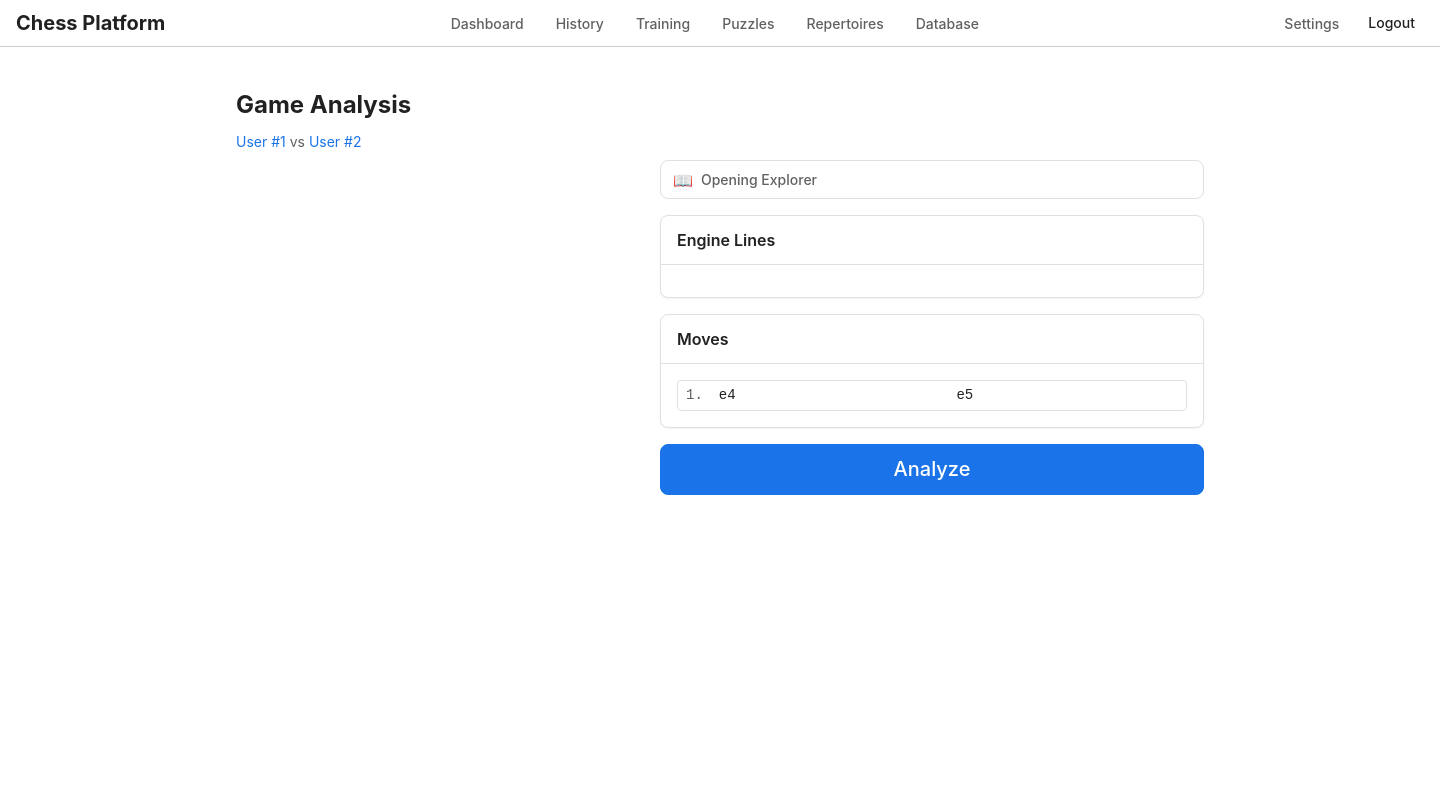
Test: AnalysisPage › shows variation indicator when engine line is clicked
What coordinates should you click on to do the following:
click the button with test id "analyze-button"
I would click on:
 (932, 470)
Its box is [660,444,1204,495].
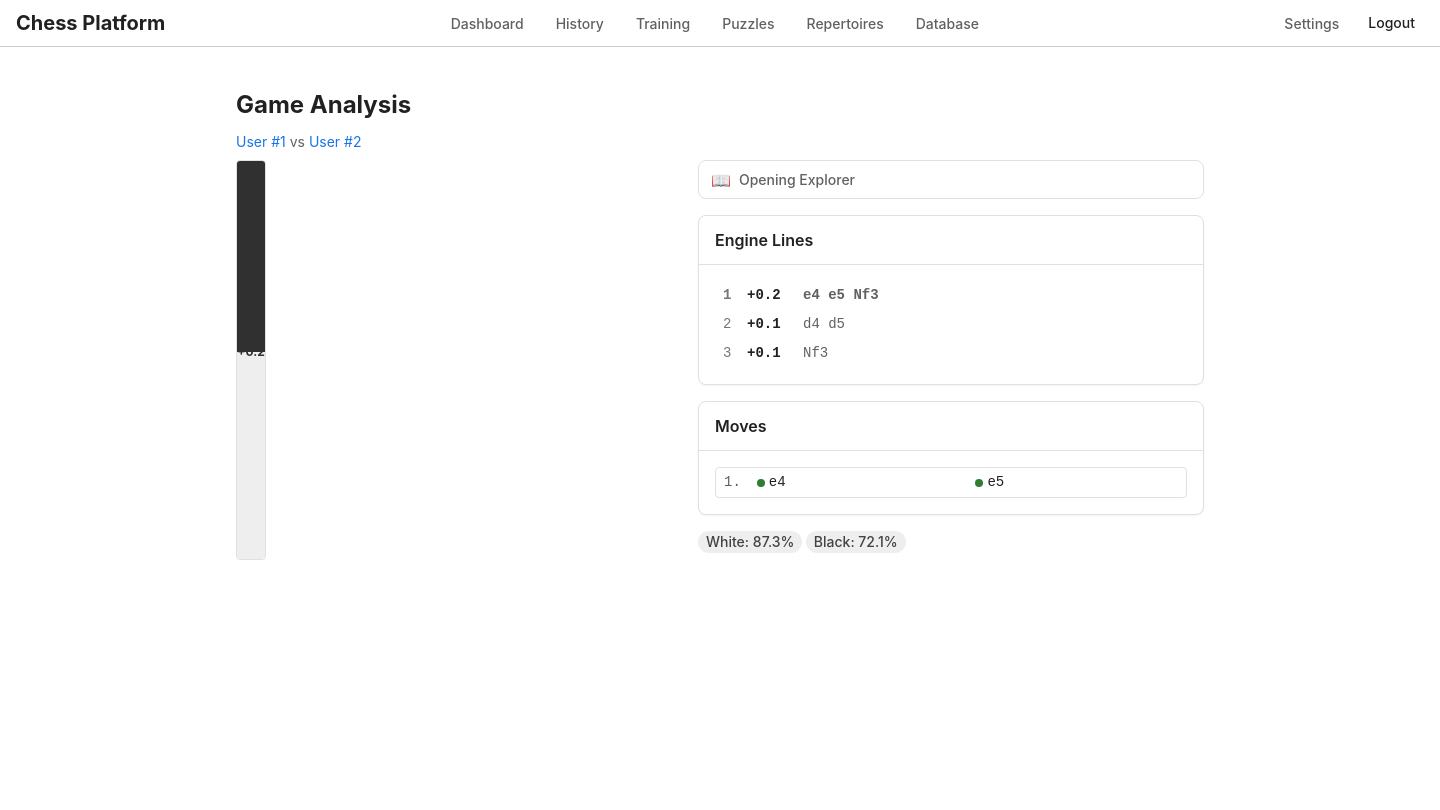
Now the element with test id "accuracy-display" is shown, box [698,531,906,553]
Now the element with test id "engine-lines-panel" is shown, box [715,281,1187,368]
What coordinates should you click on to do the following:
click the button with test id "engine-line-0"
I would click on:
 (764, 295)
Its box is [715,281,1203,310].
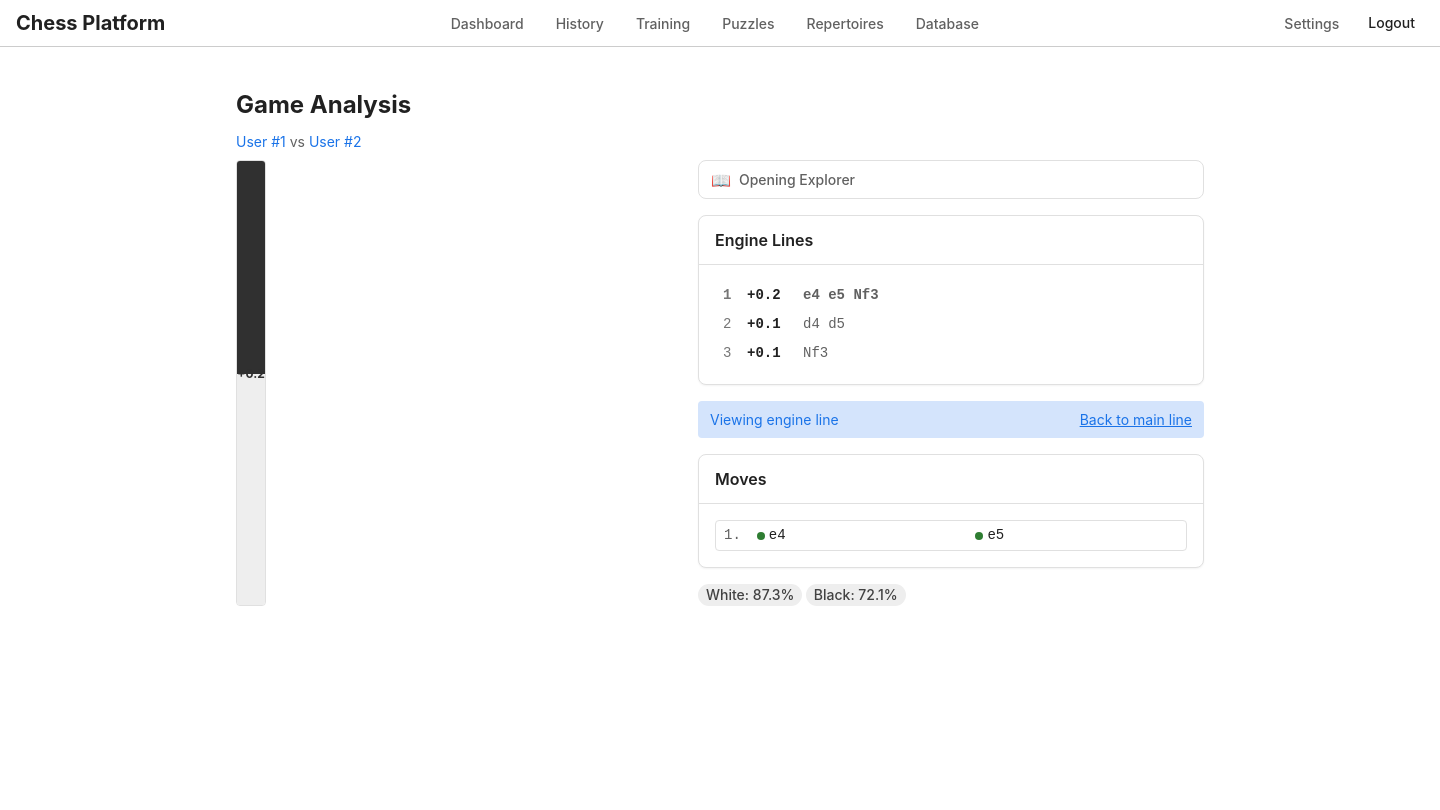
Now the element with test id "variation-indicator" is shown, box [698,401,1204,438]
Now the element with test id "variation-indicator" shows "Viewing engine line", box [710,411,839,428]
Now the button with test id "back-to-main-line" is shown, box [1080,409,1192,430]
